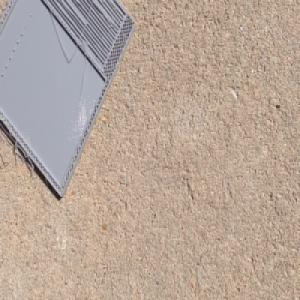PlasticPart: (0, 0, 137, 201)
